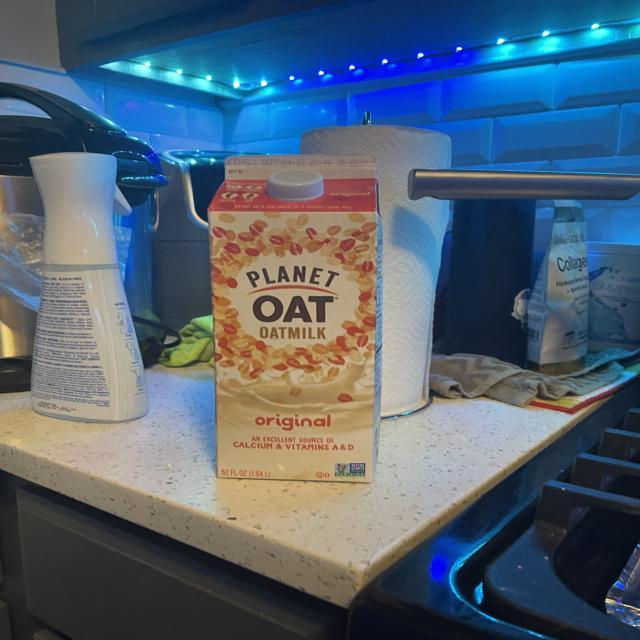Planet Oat Original: (200, 148, 390, 493)
